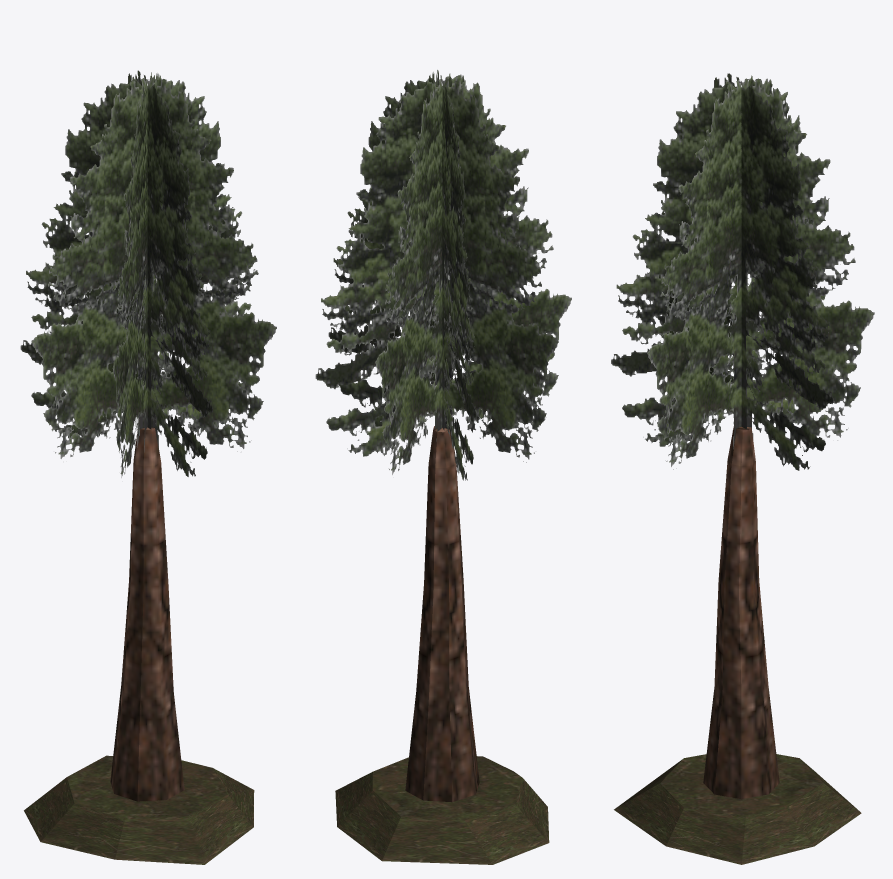
Rendered from tree1.glb.
3 renders of one model, left to right at view 1: azimuth 30°, elevation 25°; view 2: azimuth 150°, elevation 25°; view 3: azimuth 270°, elevation 25°, orthographic.
Parts seen in each view (by area): view 1: Tree.1, Bark.1, Ground.1; view 2: Tree.1, Bark.1, Ground.1; view 3: Tree.1, Bark.1, Ground.1.
Boxes of the visible parts, x1,y1,x2,y2 form: Tree.1: (20, 70, 276, 477); Bark.1: (110, 427, 184, 801); Ground.1: (24, 755, 254, 864); Tree.1: (315, 70, 571, 480); Bark.1: (405, 426, 479, 802); Ground.1: (335, 756, 549, 864); Tree.1: (611, 73, 874, 470); Bark.1: (703, 426, 779, 799); Ground.1: (614, 754, 861, 864).
Bounding box in the file's own units: 2.46 × 7.35 × 2.46.
3 materials, 3 textured.
